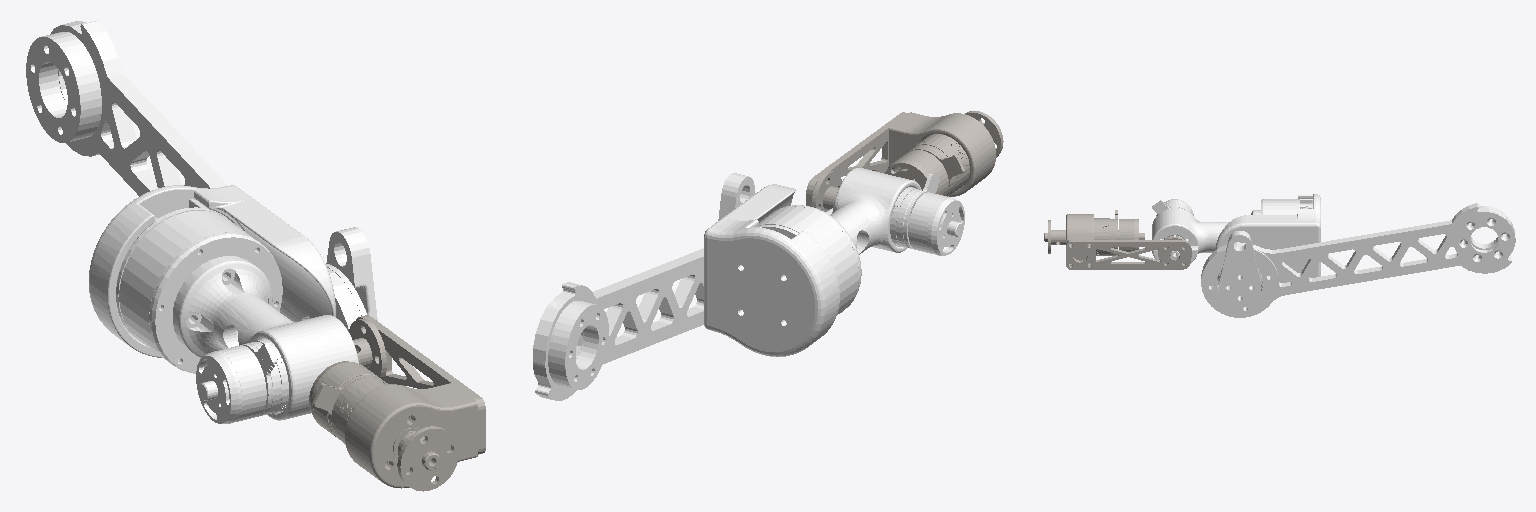
The robot description file, URDF, robot "control1":
<?xml version="1.0" encoding="utf-8"?>
<!-- This URDF was automatically created by SolidWorks to URDF Exporter! Originally created by Stephen Brawner (brawner@gmail.com) 
     Commit Version: 1.6.0-4-g7f85cfe  Build Version: 1.6.7995.38578
     For more information, please see http://wiki.ros.org/sw_urdf_exporter -->
<robot
  name="control1">
  <link
    name="base_link">
    <inertial>
      <origin
        xyz="-1.99274388679551E-05 -0.010909388260082 0.034221724153267"
        rpy="0 0 0" />
      <mass
        value="0.111516151376738" />
      <inertia
        ixx="9.67513961011775E-05"
        ixy="8.27720520457174E-08"
        ixz="-3.46673455150649E-08"
        iyy="0.000100526944802677"
        iyz="-1.58208029053105E-06"
        izz="0.00017790222461053" />
    </inertial>
    <visual>
      <origin
        xyz="0 0 0"
        rpy="0 0 0" />
      <geometry>
        <mesh
          filename="package://my_arm_description/meshes/base_link.STL" />
      </geometry>
      <material
        name="">
        <color
          rgba="1 1 1 1" />
      </material>
    </visual>
    <collision>
      <origin
        xyz="0 0 0"
        rpy="0 0 0" />
      <geometry>
        <mesh
          filename="package://my_arm_description/meshes/base_link.STL" />
      </geometry>
    </collision>
  </link>
  <link
    name="link1">
    <inertial>
      <origin
        xyz="0.00444819648257627 -0.00174221005036109 -0.0640805327506986"
        rpy="0 0 0" />
      <mass
        value="0.517175146455813" />
      <inertia
        ixx="0.000212573405928668"
        ixy="4.52054499751958E-06"
        ixz="-1.01532353320077E-05"
        iyy="0.000215391328883793"
        iyz="-1.43110410204879E-05"
        izz="0.000284824549783863" />
    </inertial>
    <visual>
      <origin
        xyz="0 0 0"
        rpy="0 0 0" />
      <geometry>
        <mesh
          filename="package://my_arm_description/meshes/link1.STL" />
      </geometry>
      <material
        name="">
        <color
          rgba="0.180392156862745 0.180392156862745 0.180392156862745 1" />
      </material>
    </visual>
    <collision>
      <origin
        xyz="0 0 0"
        rpy="0 0 0" />
      <geometry>
        <mesh
          filename="package://my_arm_description/meshes/link1.STL" />
      </geometry>
    </collision>
  </link>
  <joint
    name="joint1"
    type="revolute">
    <origin
      xyz="0 -0.01 0.12105"
      rpy="0 0 -1.0472" />
    <parent
      link="base_link" />
    <child
      link="link1" />
    <axis
      xyz="0 0 -1" />
    <limit
      lower="-3.14"
      upper="3.14"
      effort="0"
      velocity="0" />
  </joint>
  <link
    name="link2">
    <inertial>
      <origin
        xyz="0.128277880700168 -0.0138437353611224 7.70545767860009E-05"
        rpy="0 0 0" />
      <mass
        value="0.167276387211561" />
      <inertia
        ixx="3.85469235134975E-05"
        ixy="-2.92047331809108E-08"
        ixz="-4.10995998785801E-08"
        iyy="0.000280852696747895"
        iyz="-2.99570708981985E-08"
        izz="0.000260896378080021" />
    </inertial>
    <visual>
      <origin
        xyz="0 0 0"
        rpy="0 0 0" />
      <geometry>
        <mesh
          filename="package://my_arm_description/meshes/link2.STL" />
      </geometry>
      <material
        name="">
        <color
          rgba="1 1 1 1" />
      </material>
    </visual>
    <collision>
      <origin
        xyz="0 0 0"
        rpy="0 0 0" />
      <geometry>
        <mesh
          filename="package://my_arm_description/meshes/link2.STL" />
      </geometry>
    </collision>
  </link>
  <joint
    name="joint2"
    type="revolute">
    <origin
      xyz="-0.0040247 -0.031971 -0.013048"
      rpy="0 -0.5236 2.618" />
    <parent
      link="link1" />
    <child
      link="link2" />
    <axis
      xyz="0 -1 0" />
    <limit
      lower="0"
      upper="1.57"
      effort="0"
      velocity="0" />
  </joint>
  <link
    name="link3">
    <inertial>
      <origin
        xyz="0.0396222970119209 0.0690947173240546 0.0107245369166012"
        rpy="0 0 0" />
      <mass
        value="0.0657688011125815" />
      <inertia
        ixx="0.000160574214329044"
        ixy="-8.81599534031968E-05"
        ixz="2.74036528467569E-08"
        iyy="6.16878954000704E-05"
        iyz="4.72976766113109E-08"
        izz="0.000221870194736637" />
    </inertial>
    <visual>
      <origin
        xyz="0 0 0"
        rpy="0 0 0" />
      <geometry>
        <mesh
          filename="package://my_arm_description/meshes/link3.STL" />
      </geometry>
      <material
        name="">
        <color
          rgba="1 1 1 1" />
      </material>
    </visual>
    <collision>
      <origin
        xyz="0 0 0"
        rpy="0 0 0" />
      <geometry>
        <mesh
          filename="package://my_arm_description/meshes/link3.STL" />
      </geometry>
    </collision>
  </link>
  <joint
    name="joint3"
    type="revolute">
    <origin
      xyz="0.16 -0.046 0"
      rpy="-1.5708 -1.3863 3.1416" />
    <parent
      link="link2" />
    <child
      link="link3" />
    <axis
      xyz="0 0 -1" />
    <limit
      lower="0"
      upper="3.14"
      effort="0"
      velocity="0" />
  </joint>
  <link
    name="link4_coupler" />
  <joint
    name="joint4_from_joint2"
    type="revolute">
    <origin
      xyz="0.079999 0.13856 -0.021"
      rpy="0.70807 1.5708 0" />
    <parent
      link="link3" />
    <child
      link="link4_coupler" />
    <axis
      xyz="1 0 0" />
    <mimic
      joint="joint2"
      multiplier="1.0"
      offset="0.0" />
    <limit
      lower="-6.28318"
      upper="6.28318"
      effort="100"
      velocity="2" />
  </joint>
  <joint
    name="joint4_from_joint3"
    type="revolute">
    <origin
      xyz="0 0 0"
      rpy="0 0 0" />
    <parent
      link="link4_coupler" />
    <child
      link="link4" />
    <axis
      xyz="1 0 0" />
    <mimic
      joint="joint3"
      multiplier="-1.0"
      offset="0.0" />
    <limit
      lower="-6.28318"
      upper="6.28318"
      effort="100"
      velocity="2" />
  </joint>
  <link
    name="link4">
    <inertial>
      <origin
        xyz="-0.0141224375554112 -0.0248887370043849 0.0110707790254457"
        rpy="0 0 0" />
      <mass
        value="0.0599680536065182" />
      <inertia
        ixx="3.27089075495511E-05"
        ixy="8.18755064407349E-06"
        ixz="-1.26786007660678E-06"
        iyy="2.67637089428355E-05"
        iyz="3.9752114743801E-06"
        izz="3.17076282551975E-05" />
    </inertial>
    <visual>
      <origin
        xyz="0 0 0"
        rpy="0 0 0" />
      <geometry>
        <mesh
          filename="package://my_arm_description/meshes/link4.STL" />
      </geometry>
      <material
        name="">
        <color
          rgba="1 1 1 1" />
      </material>
    </visual>
    <collision>
      <origin
        xyz="0 0 0"
        rpy="0 0 0" />
      <geometry>
        <mesh
          filename="package://my_arm_description/meshes/link4.STL" />
      </geometry>
    </collision>
  </link>
  <link
    name="link5">
    <inertial>
      <origin
        xyz="0.0168639656312723 -0.00179071043489803 0.000231694525625437"
        rpy="0 0 0" />
      <mass
        value="0.0332241251365541" />
      <inertia
        ixx="3.65097165594172E-06"
        ixy="7.14267349223382E-07"
        ixz="2.05708542688784E-07"
        iyy="1.32713086327822E-05"
        iyz="-1.22668508060302E-07"
        izz="1.32410161776046E-05" />
    </inertial>
    <visual>
      <origin
        xyz="0 0 0"
        rpy="0 0 0" />
      <geometry>
        <mesh
          filename="package://my_arm_description/meshes/link5.STL" />
      </geometry>
      <material
        name="">
        <color
          rgba="1 1 1 1" />
      </material>
    </visual>
    <collision>
      <origin
        xyz="0 0 0"
        rpy="0 0 0" />
      <geometry>
        <mesh
          filename="package://my_arm_description/meshes/link5.STL" />
      </geometry>
    </collision>
  </link>
  <joint
    name="joint5"
    type="continuous">
    <origin
      xyz="0 0.041801 0.015001"
      rpy="3.1416 0 -1.5708" />
    <parent
      link="link4" />
    <child
      link="link5" />
    <axis
      xyz="1 0 0" />
    <limit
      lower="-3.14"
      upper="3.14"
      effort="0"
      velocity="0" />
  </joint>
  <link
    name="link6">
    <inertial>
      <origin
        xyz="-0.0278266935177969 0.0123344794811379 0.0224125325758741"
        rpy="0 0 0" />
      <mass
        value="0.0349726138954209" />
      <inertia
        ixx="4.53103052878315E-06"
        ixy="4.13537754805069E-08"
        ixz="1.5049354379533E-06"
        iyy="6.041233284177E-06"
        iyz="-4.41476357346042E-08"
        izz="5.19404904165699E-06" />
    </inertial>
    <visual>
      <origin
        xyz="0 0 0"
        rpy="0 0 0" />
      <geometry>
        <mesh
          filename="package://my_arm_description/meshes/link6.STL" />
      </geometry>
      <material
        name="">
        <color
          rgba="0.776470588235294 0.756862745098039 0.737254901960784 1" />
      </material>
    </visual>
    <collision>
      <origin
        xyz="0 0 0"
        rpy="0 0 0" />
      <geometry>
        <mesh
          filename="package://my_arm_description/meshes/link6.STL" />
      </geometry>
    </collision>
  </link>
  <joint
    name="joint6"
    type="revolute">
    <origin
      xyz="0 0.025 0"
      rpy="-3.1416 0.67749 0" />
    <parent
      link="link5" />
    <child
      link="link6" />
    <axis
      xyz="0 1 0" />
    <limit
      lower="-1.57"
      upper="1.57"
      effort="0"
      velocity="0" />
  </joint>
  <link
    name="link7">
    <inertial>
      <origin
        xyz="5.00622043819732E-11 0.00353607686776644 -2.62348281987457E-09"
        rpy="0 0 0" />
      <mass
        value="0.00896787232203793" />
      <inertia
        ixx="3.12675286229379E-07"
        ixy="-6.07476494257136E-15"
        ixz="2.25238790534559E-13"
        iyy="4.01070807985688E-07"
        iyz="-6.36822112998035E-14"
        izz="3.16171592931573E-07" />
    </inertial>
    <visual>
      <origin
        xyz="0 0 0"
        rpy="0 0 0" />
      <geometry>
        <mesh
          filename="package://my_arm_description/meshes/link7.STL" />
      </geometry>
      <material
        name="">
        <color
          rgba="0.776470588235294 0.756862745098039 0.737254901960784 1" />
      </material>
    </visual>
    <collision>
      <origin
        xyz="0 0 0"
        rpy="0 0 0" />
      <geometry>
        <mesh
          filename="package://my_arm_description/meshes/link7.STL" />
      </geometry>
    </collision>
  </link>
  <joint
    name="joint7"
    type="continuous">
    <origin
      xyz="-0.06389 0.025 0.051401"
      rpy="-1.0147 -0.74064 -0.74432" />
    <parent
      link="link6" />
    <child
      link="link7" />
    <axis
      xyz="0 1 0" />
    <limit
      lower="-3.14"
      upper="3.14"
      effort="0"
      velocity="0" />
  </joint>
</robot>

--- What the picture shows (computed from the rendered views, not written in the file) ---
3 views of the same robot in one strip: view 1: azimuth 30°, elevation 25°; view 2: azimuth 150°, elevation 25°; view 3: azimuth 270°, elevation 25° (orthographic).
Model control1 with 9 links and 8 joints (6 revolute, 2 continuous), rooted at base_link, posed every joint at zero.
Visible links, largest first — view 1: link4, link5, link3, link6, link7; view 2: link4, link3, link6, link5; view 3: link3, link4, link6, link5.
Boxes of the visible links, left/top/right/bottom form: link4: left=89, top=185, right=377, bottom=373; link5: left=173, top=256, right=358, bottom=423; link3: left=26, top=20, right=366, bottom=331; link6: left=309, top=315, right=485, bottom=488; link7: left=397, top=426, right=458, bottom=491; link4: left=704, top=173, right=861, bottom=356; link3: left=533, top=248, right=703, bottom=400; link6: left=806, top=112, right=995, bottom=211; link5: left=826, top=168, right=964, bottom=255; link3: left=1201, top=203, right=1515, bottom=317; link4: left=1216, top=194, right=1320, bottom=306; link6: left=1044, top=210, right=1191, bottom=269; link5: left=1152, top=199, right=1260, bottom=263.
Size in the robot's own frame: 0.0828 by 0.303 by 0.0778 metres.
Meshes: 8 distinct files referenced, 5 mesh visuals loaded (5 binary STL); not drawn: 3 (reference not matched to a file when rendering).
